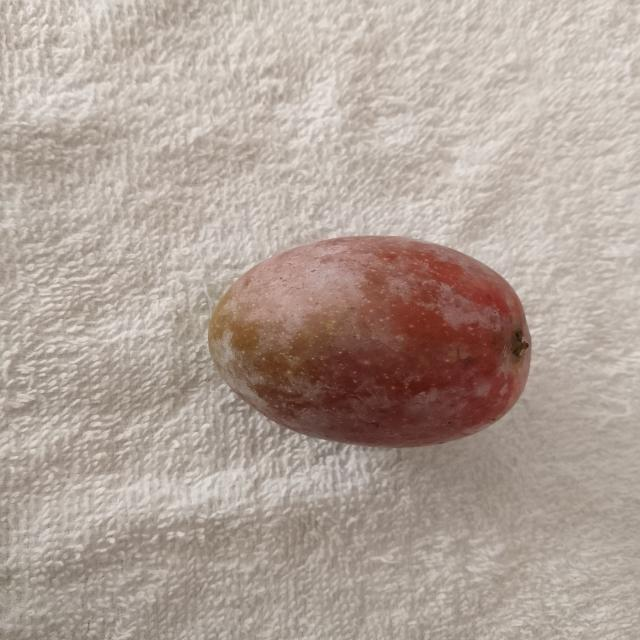mango: (203, 231, 537, 452)
